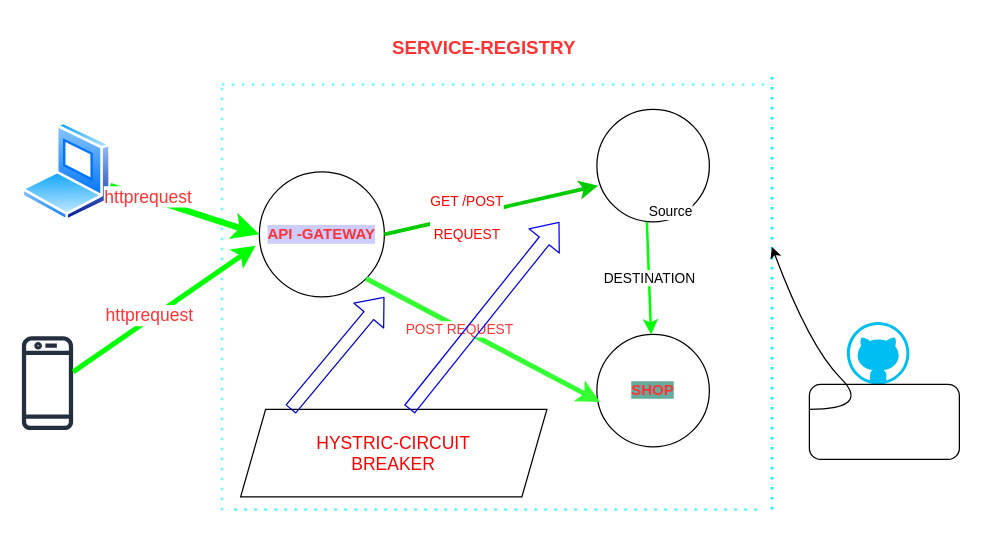
Image size: 981x534. Some labels were removed from this diagram. Each missing label, with the box of its shape:
CONFIG SERVER: (808, 383, 959, 459)
USER: (596, 108, 709, 222)
